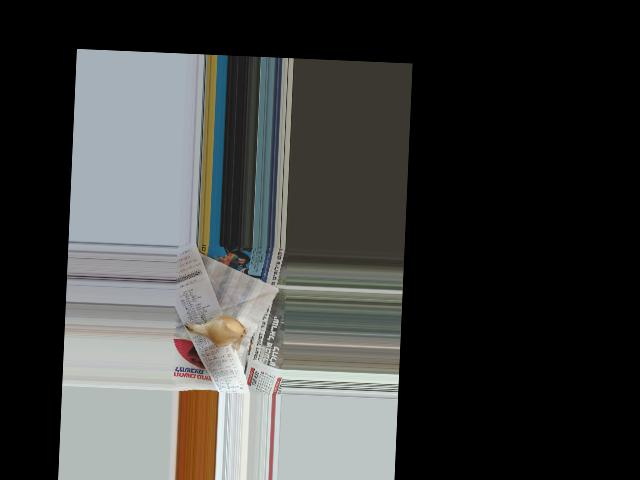onion: (198, 315, 243, 345)
